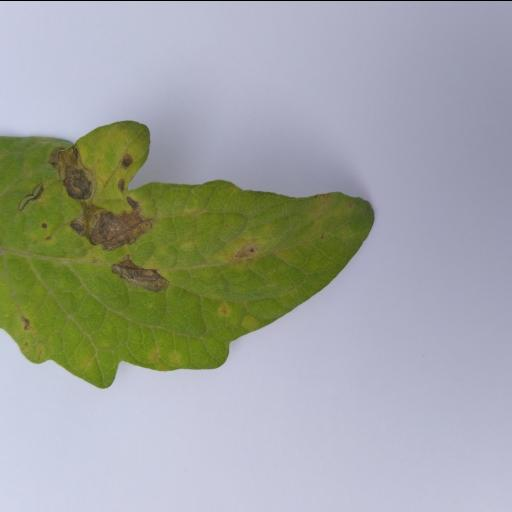disease_tomato: (0, 120, 372, 389)
